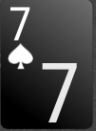Spade: (8, 43, 34, 69)
